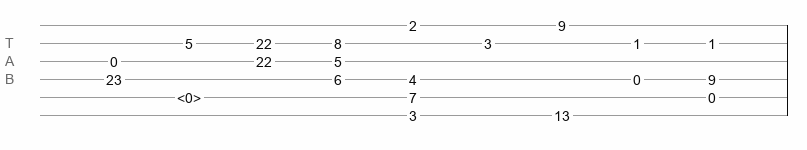0: (110, 54, 118, 64), (633, 72, 641, 82), (708, 90, 716, 100)
1: (633, 36, 641, 46), (708, 36, 716, 46)
13: (554, 108, 570, 118)
2: (409, 18, 417, 28)
22: (256, 54, 272, 64), (256, 36, 272, 46)
23: (106, 72, 122, 82)
3: (409, 108, 417, 118), (484, 36, 492, 46)
4: (409, 72, 417, 82)
5: (185, 36, 193, 46), (334, 54, 342, 64)
6: (334, 72, 342, 82)
7: (409, 90, 417, 100)
8: (334, 36, 342, 46)
9: (558, 18, 566, 28), (708, 72, 716, 82)
harmonic: (177, 90, 201, 100)
